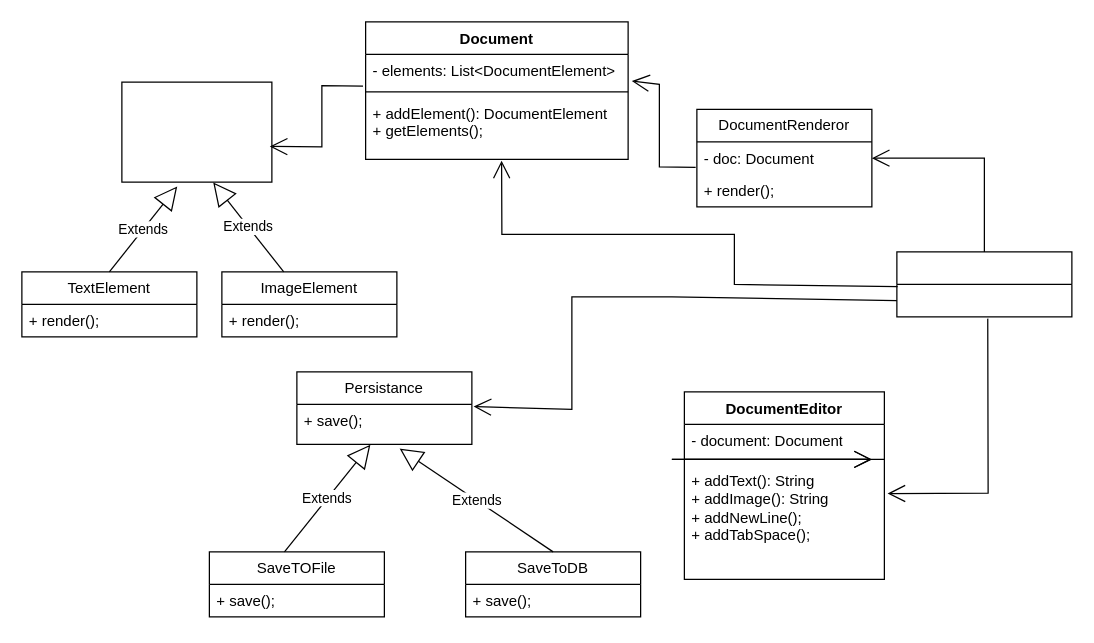
The diagram is 1094 pixels wide and 643 high, and some of its shapes have lost their labels. The centre of each missing label's shape, as x and y in pixels:
<<Interface>> DocumentElement + render();: the point at 196,131
Client: the point at 984,284
